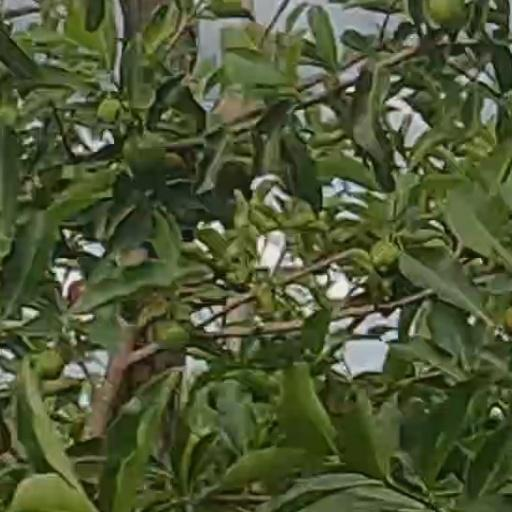acerola_verde: (124, 135, 163, 171), (430, 1, 468, 28), (155, 323, 189, 347), (373, 243, 397, 274), (37, 351, 63, 378)
